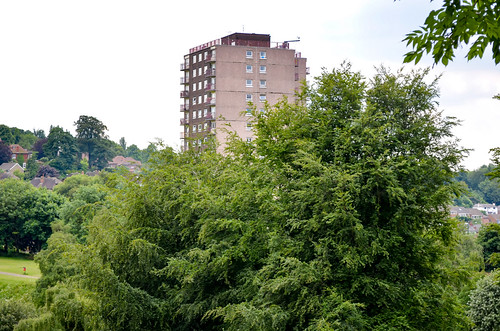building: (177, 39, 308, 155)
sky: (1, 1, 178, 107), (184, 1, 425, 33)
vegetation: (1, 81, 457, 331)
